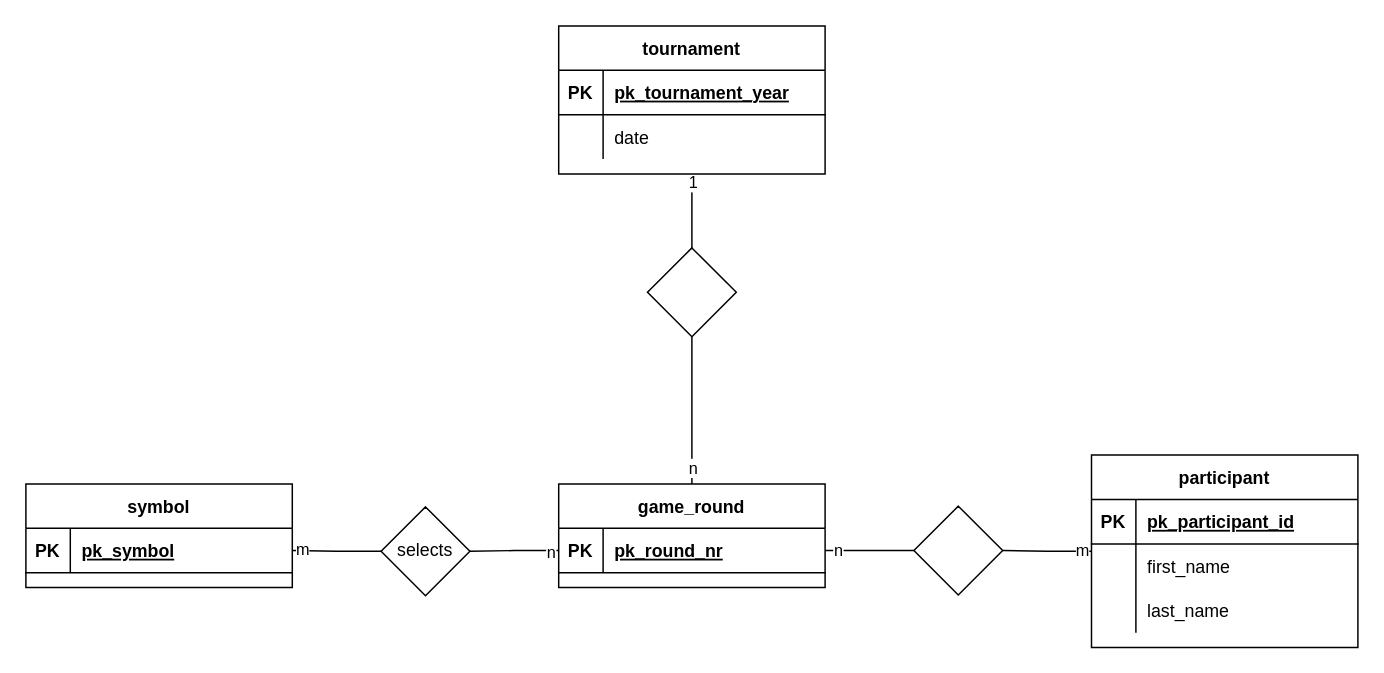
Some shapes in this 1384 by 673 pixel diagram are drawn without their labels. Here are the shapes that lost their labels. From the top down, the centre of each, then its label:
pixel 691 291: has
pixel 957 550: takes part
